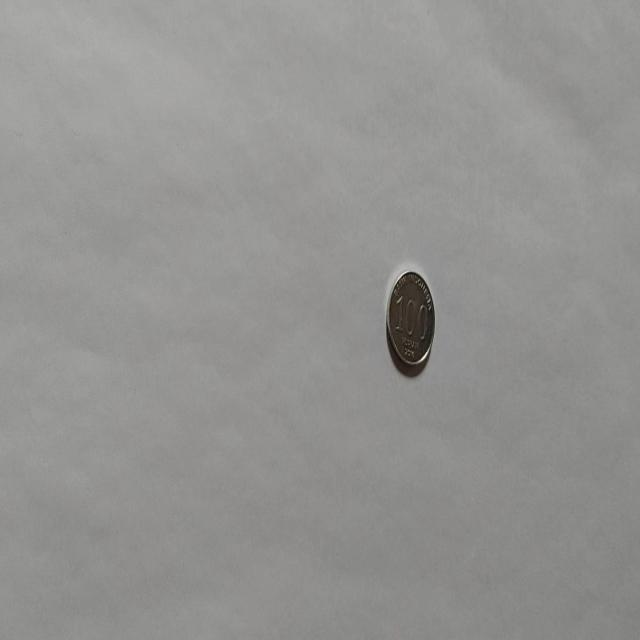seratus rupiah: (384, 268, 436, 372)
